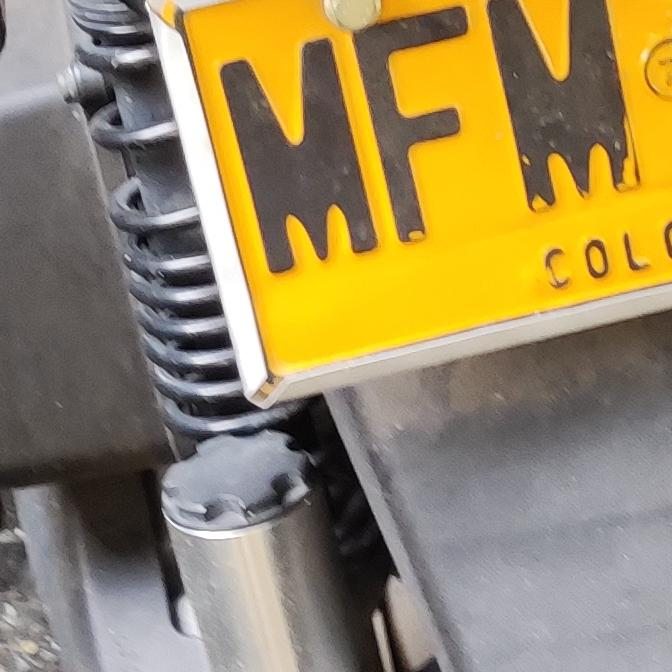plates: (151, 0, 672, 391)
